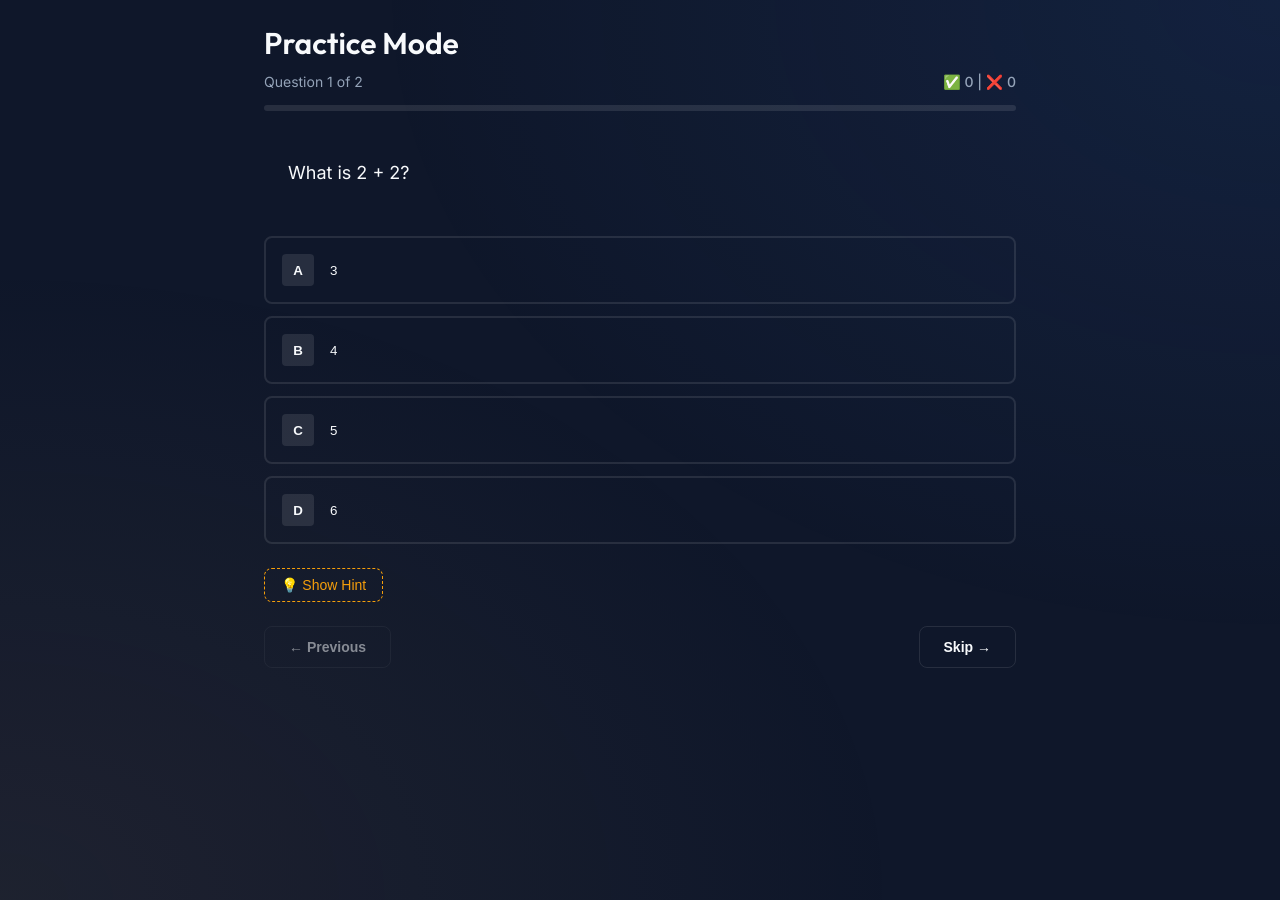
Test: PracticeMode › displays hint when hint button clicked
Click the button "💡 Show Hint" at (324, 585), box left=264, top=568, right=383, bottom=602
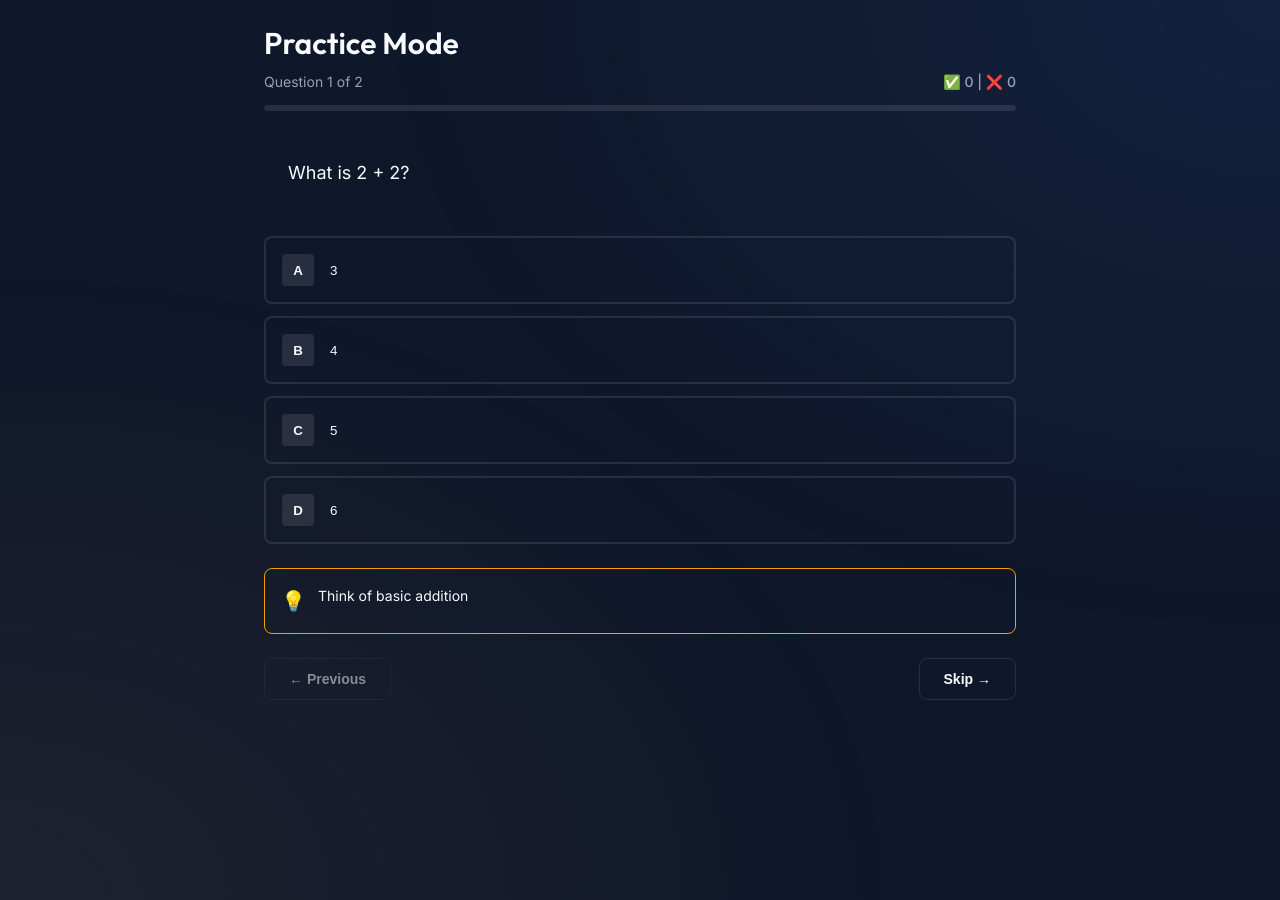
Now the text "Think of basic addition" is shown, box left=318, top=585, right=468, bottom=608
